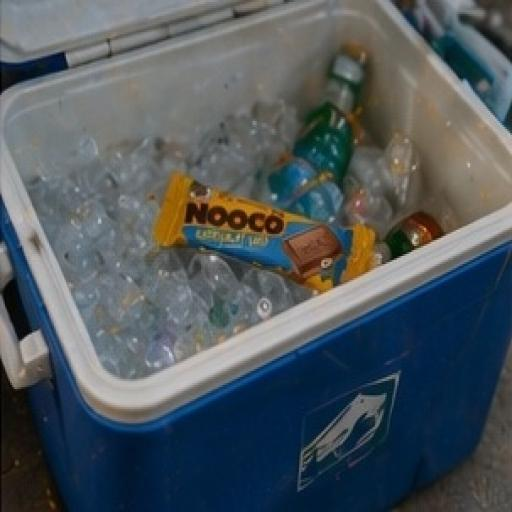nooco: (161, 134, 369, 314)
